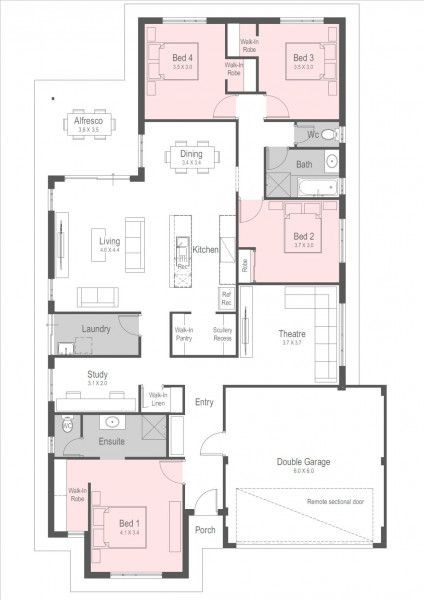room: (87, 457, 185, 579), (236, 197, 346, 286), (256, 17, 345, 122), (138, 18, 227, 122), (47, 354, 141, 416), (47, 311, 140, 359), (79, 412, 168, 460)
